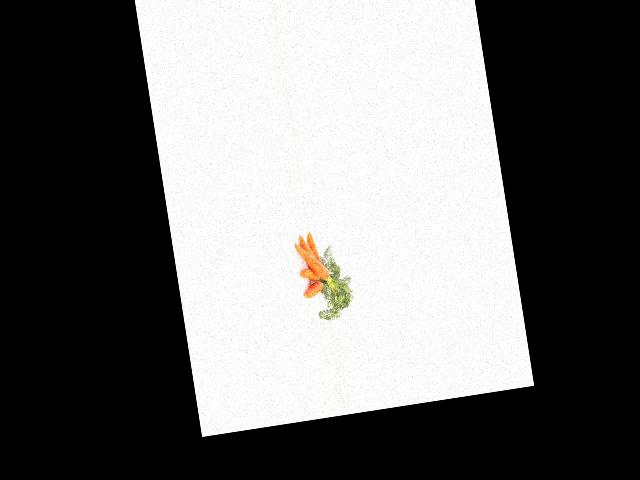carrot: (292, 239, 334, 289)
